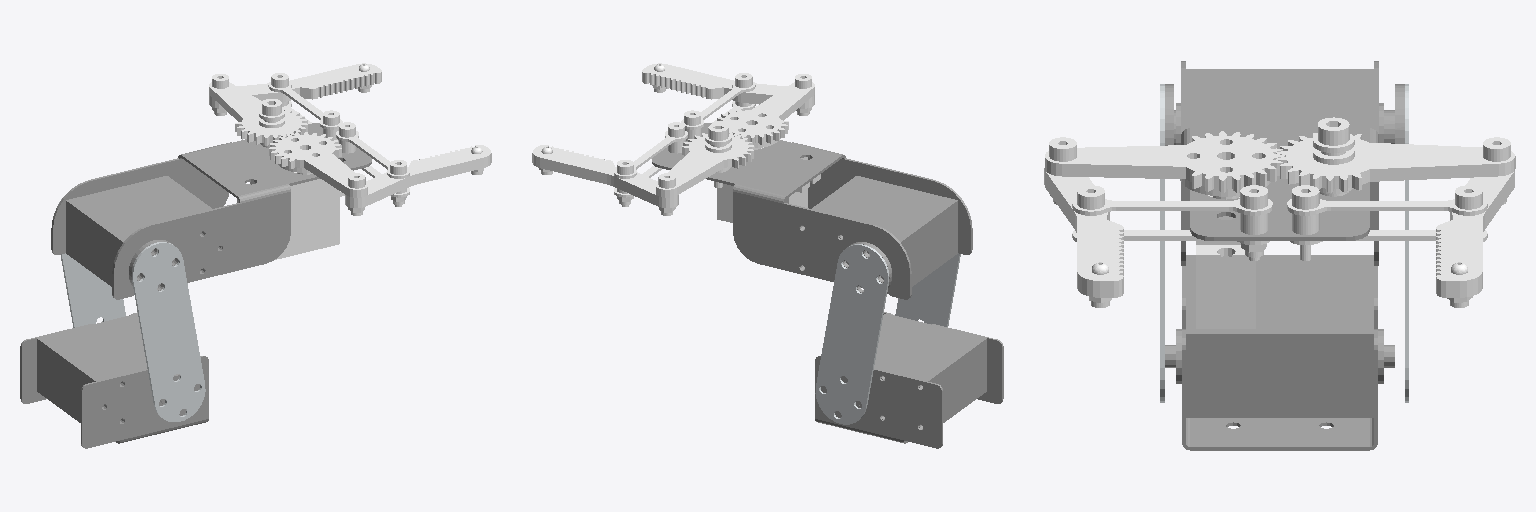
The robot description file, URDF, robot "limo_s2_arm":
<?xml version="1.0" encoding="utf-8"?>
<!-- This URDF was automatically created by SolidWorks to URDF Exporter! Originally created by [author] ([email redacted]) 
     Commit Version: 1.6.0-1-g15f4949  Build Version: 1.6.7594.29634
     For more information, please see http://wiki.ros.org/sw_urdf_exporter -->
<robot
  name="limo_s2_arm">
  <link
    name="arm_base">
    <inertial>
      <origin
        xyz="-0.0062468 -7.8708E-06 0.013495"
        rpy="0 0 0" />
      <mass
        value="0.040342" />
      <inertia
        ixx="8.5565E-06"
        ixy="-1.1664E-09"
        ixz="2.5879E-07"
        iyy="7.366E-06"
        iyz="1.3719E-09"
        izz="1.2778E-05" />
    </inertial>
    <visual>
      <origin
        xyz="0 0 0"
        rpy="0 0 0" />
      <geometry>
        <mesh
          filename="package://limo_s2_arm/meshes/arm_base.STL" />
      </geometry>
      <material
        name="">
        <color
          rgba="0.70588 0.70588 0.70588 1" />
      </material>
    </visual>
    <collision>
      <origin
        xyz="0 0 0"
        rpy="0 0 0" />
      <geometry>
        <mesh
          filename="package://limo_s2_arm/meshes/arm_base.STL" />
      </geometry>
    </collision>
  </link>
  <link
    name="arm_link1">
    <inertial>
      <origin
        xyz="0.029004 0.0033255 -0.001"
        rpy="0 0 0" />
      <mass
        value="0.006749" />
      <inertia
        ixx="2.7901E-07"
        ixy="-3.6735E-07"
        ixz="5.1618E-22"
        iyy="2.2976E-06"
        iyz="-2.8565E-23"
        izz="2.5755E-06" />
    </inertial>
    <visual>
      <origin
        xyz="0 0 0"
        rpy="0 0 0" />
      <geometry>
        <mesh
          filename="package://limo_s2_arm/meshes/arm_link1.STL" />
      </geometry>
      <material
        name="">
        <color
          rgba="0.89804 0.91765 0.92941 1" />
      </material>
    </visual>
    <collision>
      <origin
        xyz="0 0 0"
        rpy="0 0 0" />
      <geometry>
        <mesh
          filename="package://limo_s2_arm/meshes/arm_link1.STL" />
      </geometry>
    </collision>
  </link>
  <joint
    name="arm_joint1"
    type="revolute">
    <origin
      xyz="0.0024598 0 0.010616"
      rpy="1.5708 -1.5708 0" />
    <parent
      link="arm_base" />
    <child
      link="arm_link1" />
    <axis
      xyz="0 0 1" />
    <limit
      lower="-3.14"
      upper="3.14"
      effort="1"
      velocity="100" />
  </joint>
  <link
    name="arm_link2">
    <inertial>
      <origin
        xyz="0.017496 0.0069124 -0.00013621"
        rpy="0 0 0" />
      <mass
        value="0.047632" />
      <inertia
        ixx="1.0953E-05"
        ixy="-1.692E-06"
        ixz="8.1762E-08"
        iyy="2.2483E-05"
        iyz="2.5084E-08"
        izz="1.5744E-05" />
    </inertial>
    <visual>
      <origin
        xyz="0 0 0"
        rpy="0 0 0" />
      <geometry>
        <mesh
          filename="package://limo_s2_arm/meshes/arm_link2.STL" />
      </geometry>
      <material
        name="">
        <color
          rgba="0.70588 0.70588 0.70588 1" />
      </material>
    </visual>
    <collision>
      <origin
        xyz="0 0 0"
        rpy="0 0 0" />
      <geometry>
        <mesh
          filename="package://limo_s2_arm/meshes/arm_link2.STL" />
      </geometry>
    </collision>
  </link>
  <joint
    name="arm_joint2"
    type="revolute">
    <origin
      xyz="0.049139 0.0073031 0"
      rpy="0 0 -1.5708" />
    <parent
      link="arm_link1" />
    <child
      link="arm_link2" />
    <axis
      xyz="0 0 1" />
    <limit
      lower="-3.14"
      upper="3.14"
      effort="1"
      velocity="100" />
  </joint>
  <link
    name="arm_link3">
    <inertial>
      <origin
        xyz="0.01018 0.0086737 -0.0039578"
        rpy="0 0 0" />
      <mass
        value="0.03827" />
      <inertia
        ixx="3.1125E-06"
        ixy="2.3277E-16"
        ixz="-7.8003E-09"
        iyy="4.825E-06"
        iyz="7.4118E-22"
        izz="6.6134E-06" />
    </inertial>
    <visual>
      <origin
        xyz="0 0 0"
        rpy="0 0 0" />
      <geometry>
        <mesh
          filename="package://limo_s2_arm/meshes/arm_link3.STL" />
      </geometry>
      <material
        name="">
        <color
          rgba="1 1 1 1" />
      </material>
    </visual>
    <collision>
      <origin
        xyz="0 0 0"
        rpy="0 0 0" />
      <geometry>
        <mesh
          filename="package://limo_s2_arm/meshes/arm_link3.STL" />
      </geometry>
    </collision>
  </link>
  <joint
    name="arm_joint3"
    type="fixed">
    <origin
      xyz="0.065886 0.024485 0.0115"
      rpy="-1.5708 0 0" />
    <parent
      link="arm_link2" />
    <child
      link="arm_link3" />
    <axis
      xyz="0 0 0" />
  </joint>

        <transmission name="arm_joint2_trans" type="SimpleTransmission">
            <type>transmission_interface/SimpleTransmission</type>
            <actuator name="arm_joint2_motor">
                <hardwareInterface>hardware_interface/PositionJointInterface</hardwareInterface>
                <mechanicalReduction>1</mechanicalReduction>
            </actuator>
            <joint name="arm_joint2">
                <hardwareInterface>hardware_interface/PositionJointInterface</hardwareInterface>
            </joint>
        </transmission>

        <transmission name="arm_joint1_trans" type="SimpleTransmission">
            <type>transmission_interface/SimpleTransmission</type>
            <actuator name="arm_joint1_motor">
                <hardwareInterface>hardware_interface/PositionJointInterface</hardwareInterface>
                <mechanicalReduction>1</mechanicalReduction>
            </actuator>
            <joint name="arm_joint1">
                <hardwareInterface>hardware_interface/PositionJointInterface</hardwareInterface>
            </joint>
        </transmission>


</robot>

--- Facts derived from the render (not from the file) ---
3 views of the same robot in one strip: view 1: azimuth 30°, elevation 25°; view 2: azimuth 150°, elevation 25°; view 3: azimuth 270°, elevation 25° (orthographic).
Robot: limo_s2_arm — 4 links, 3 joints (2 revolute, 1 fixed); root link arm_base; default pose: all joints at 0.
Visible links, largest first — view 1: arm_link2, arm_link3, arm_base, arm_link1; view 2: arm_link2, arm_link3, arm_base, arm_link1; view 3: arm_link3, arm_base, arm_link2, arm_link1.
Boxes of the visible links, left/top/right/bottom form: arm_link2: left=51, top=123, right=371, bottom=299; arm_link3: left=209, top=63, right=491, bottom=259; arm_base: left=20, top=312, right=208, bottom=448; arm_link1: left=58, top=199, right=205, bottom=421; arm_link2: left=652, top=123, right=972, bottom=299; arm_link3: left=532, top=63, right=820, bottom=222; arm_base: left=815, top=312, right=1003, bottom=448; arm_link1: left=815, top=244, right=960, bottom=424; arm_link3: left=1044, top=117, right=1515, bottom=328; arm_base: left=1165, top=255, right=1394, bottom=450; arm_link2: left=1165, top=61, right=1404, bottom=265; arm_link1: left=1160, top=84, right=1408, bottom=402.
Size in the robot's own frame: 0.1506 by 0.101 by 0.0975 metres.
4 mesh visuals loaded from 4 distinct referenced files (4 binary STL).